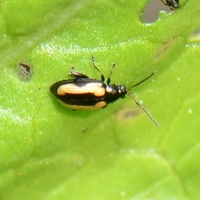insect: (50, 56, 126, 109)
